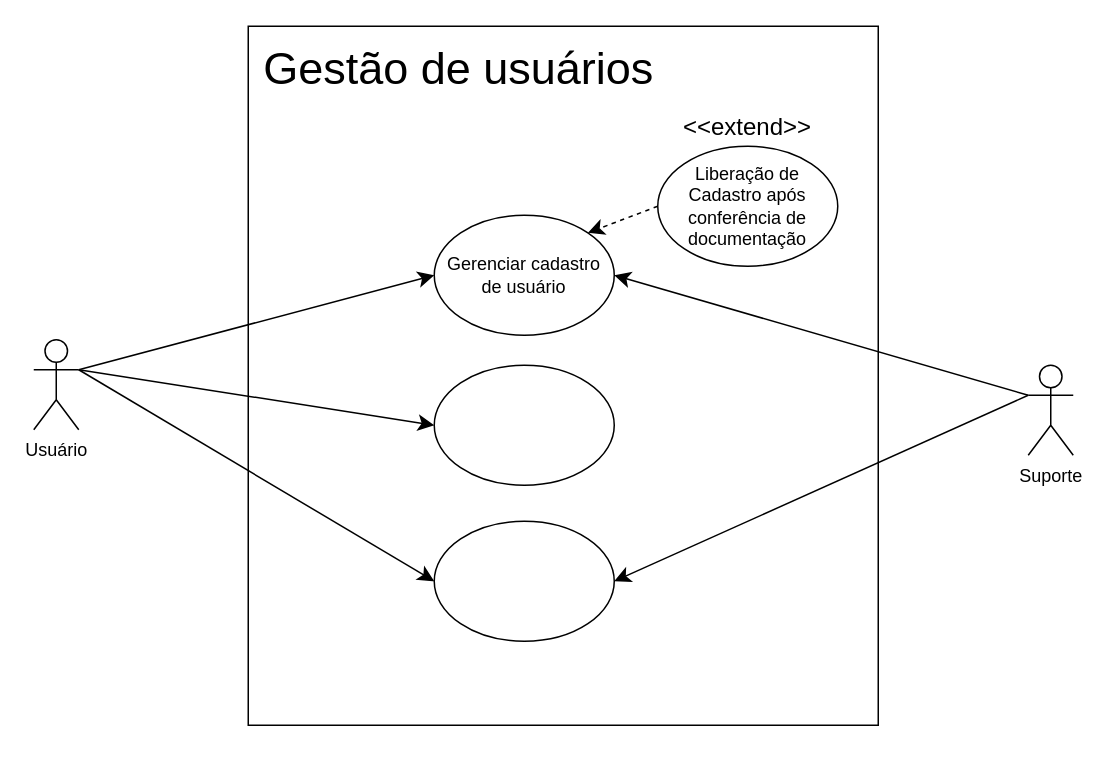
The diagram is 1109 pixels wide and 767 high, and some of its shapes have lost their labels. The shapes that lost their labels are listed below. From the top down, each one's centre as x and y in pixels, then its label:
At point (523, 424): "Autenticar Usuário".
At point (523, 580): "Recuperar e Alterar Credenciais".
